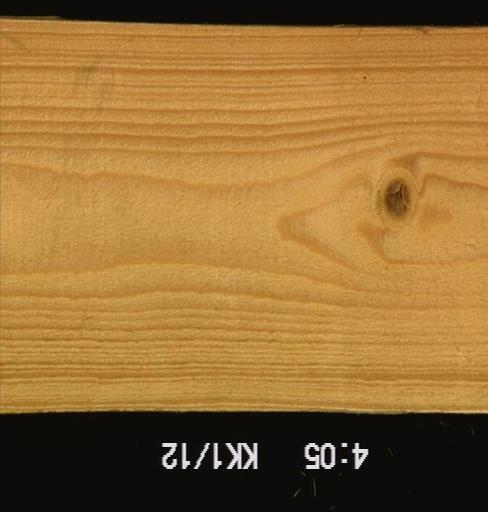sound_knot: (378, 178, 412, 220)
